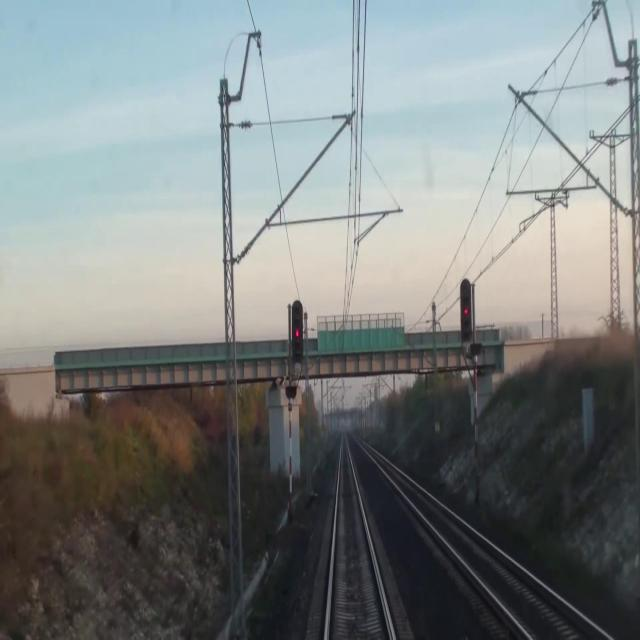rail-track: (378, 458, 602, 639), (329, 443, 390, 639)
